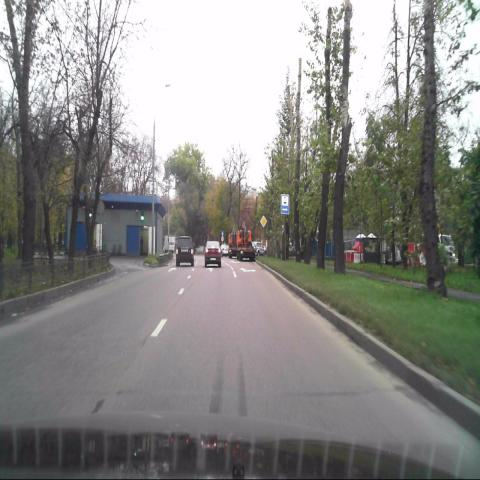7_5: (281, 194, 290, 215)
